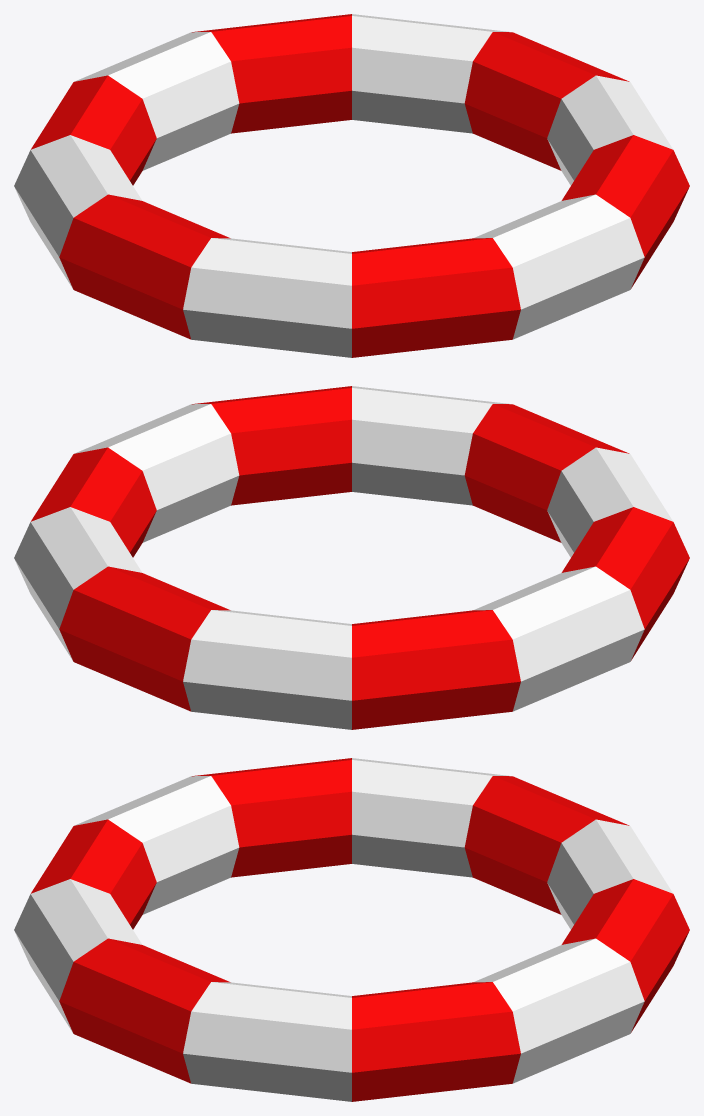
File: LifeVest.fbx
3 renders of one model, top to bottom at view 1: azimuth 30°, elevation 25°; view 2: azimuth 150°, elevation 25°; view 3: azimuth 270°, elevation 25°, orthographic.
Visible parts, largest first — view 1: Torus; view 2: Torus; view 3: Torus.
Part boxes in pixels (x1,y1,x2,y2): Torus: (14, 14, 689, 357); Torus: (14, 386, 689, 729); Torus: (14, 758, 689, 1101).
Bounding box in the file's own units: 12 × 2 × 12.
